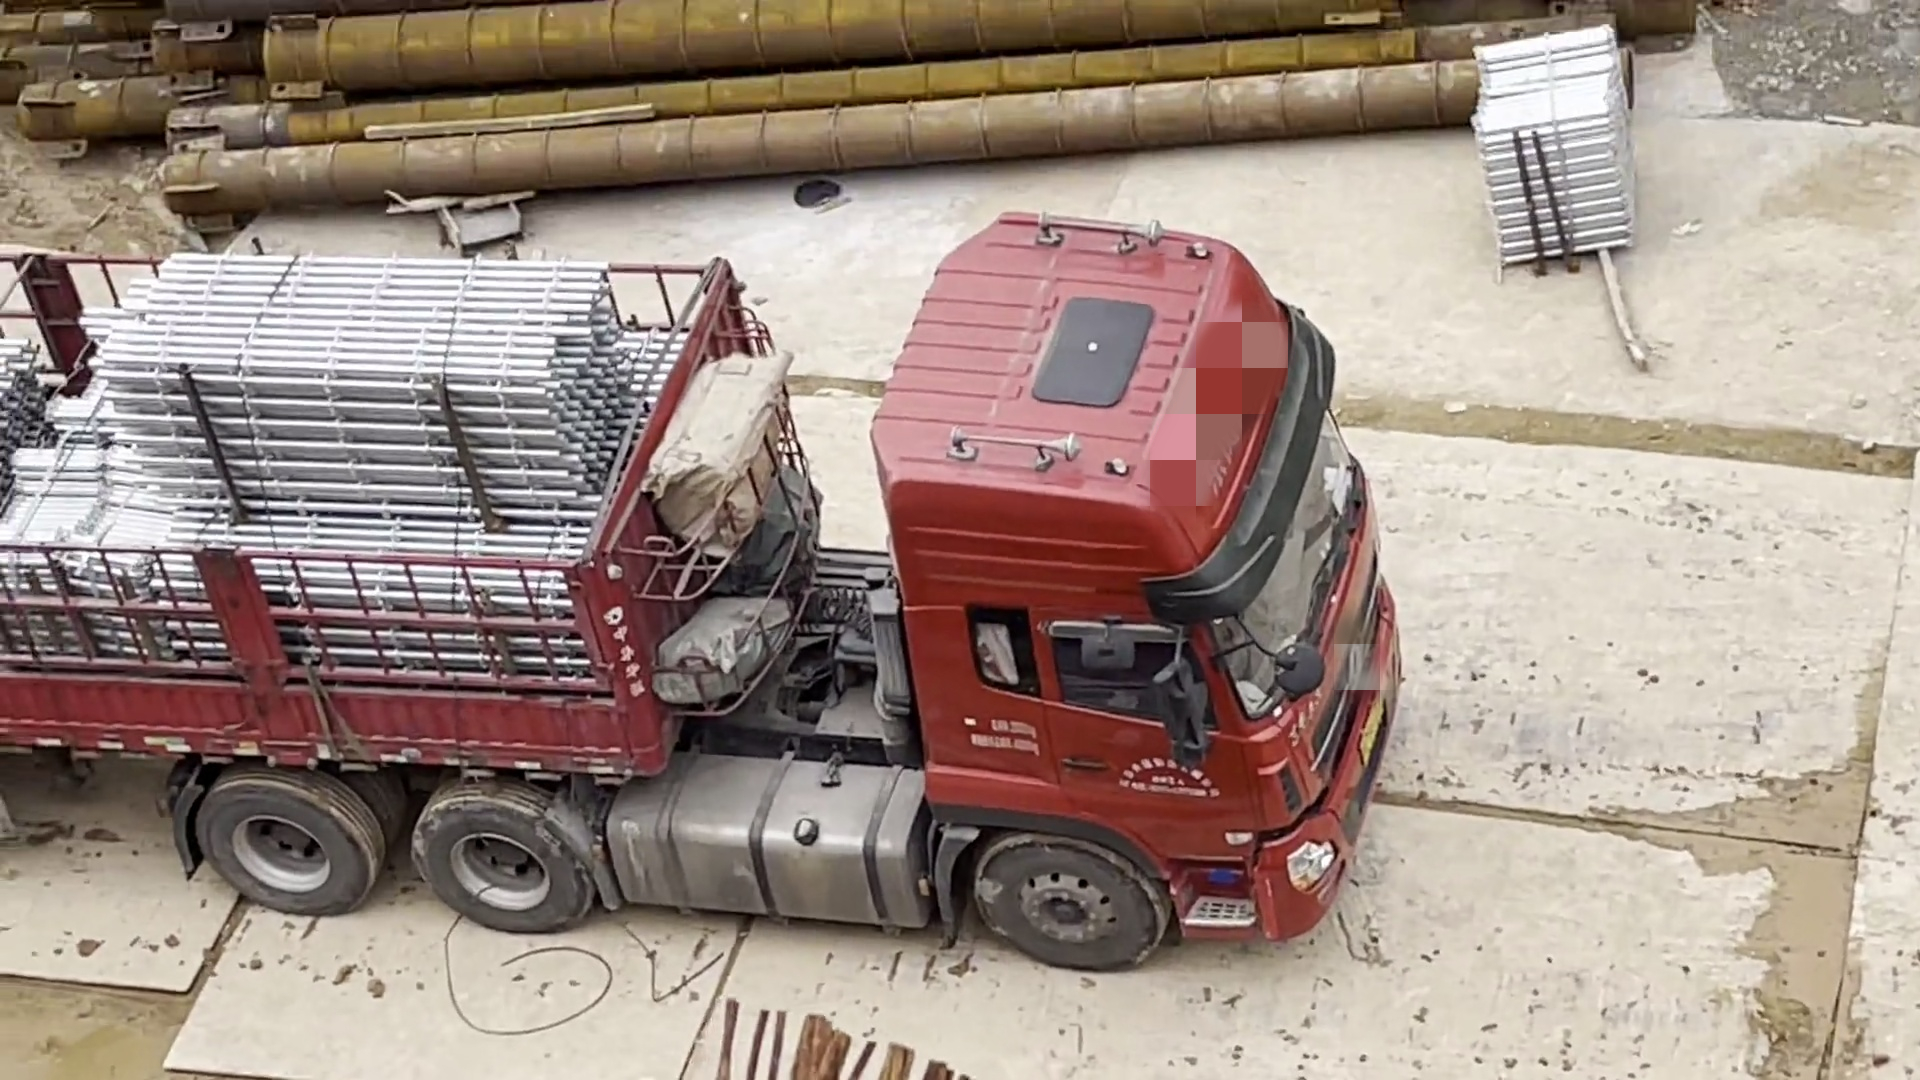scaffold: (3, 229, 626, 665), (1465, 26, 1656, 282)
